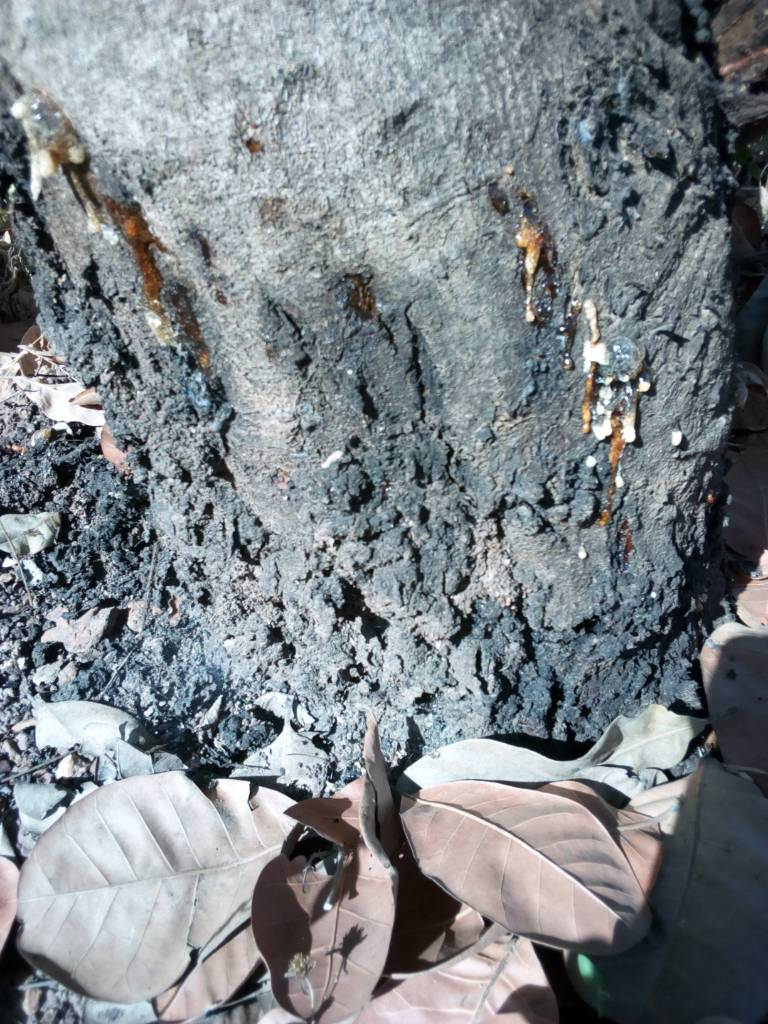Mecocorynus longiceps: (477, 199, 697, 622)
